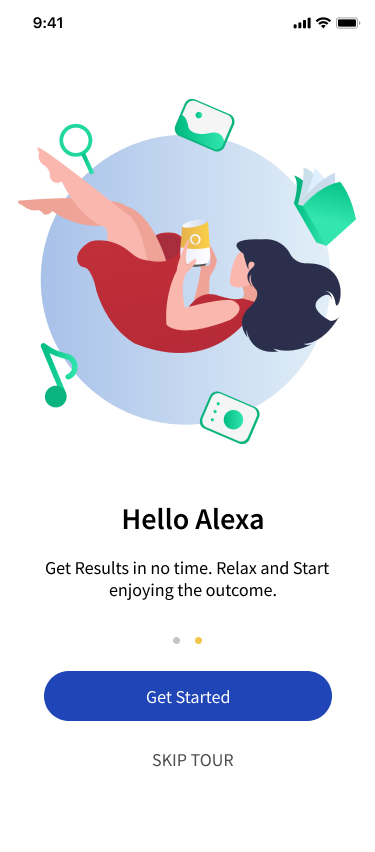Image: (18, 99, 357, 446)
PageIndicator: (173, 636, 203, 645)
Text: (46, 560, 330, 601), (123, 508, 264, 531), (153, 753, 234, 767)
TextButton: (44, 671, 333, 722)
UpperTaskBar: (33, 17, 361, 31)
